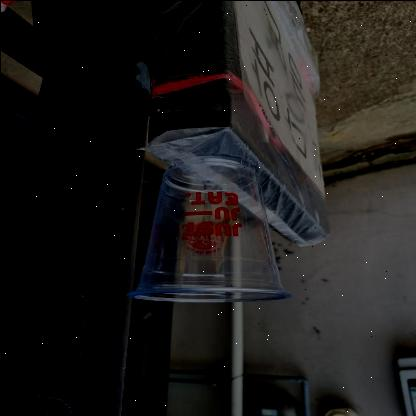Others: (122, 149, 298, 308)
